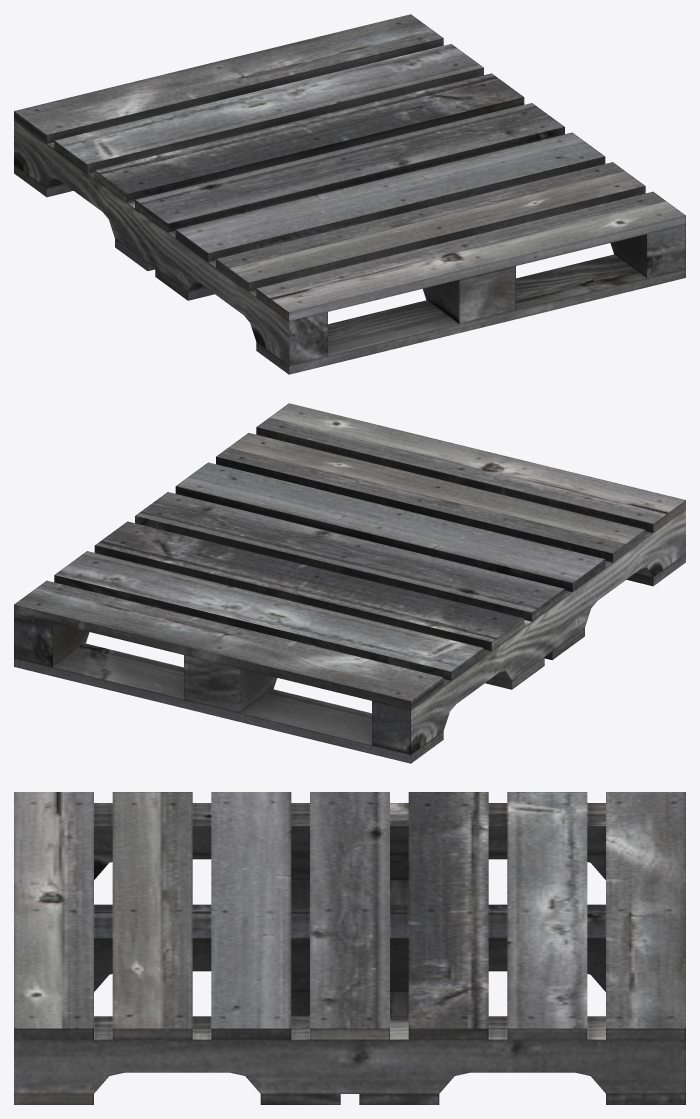
Rendered from Pallet.fbx.
The picture shows the model from 3 angles, top to bottom: view 1: azimuth 30°, elevation 25°; view 2: azimuth 150°, elevation 25°; view 3: azimuth 270°, elevation 25°; orthographic projection. The views are drawn at different scales.
Parts seen in each view (by area): view 1: Pallet; view 2: Pallet; view 3: Pallet.
Part boxes in pixels (x1=…): Pallet: x1=14, y1=14, x2=685, y2=374; Pallet: x1=14, y1=403, x2=685, y2=763; Pallet: x1=14, y1=792, x2=685, y2=1104.
Size of the model in its own units: 1.02 by 0.1524 by 1.22.
